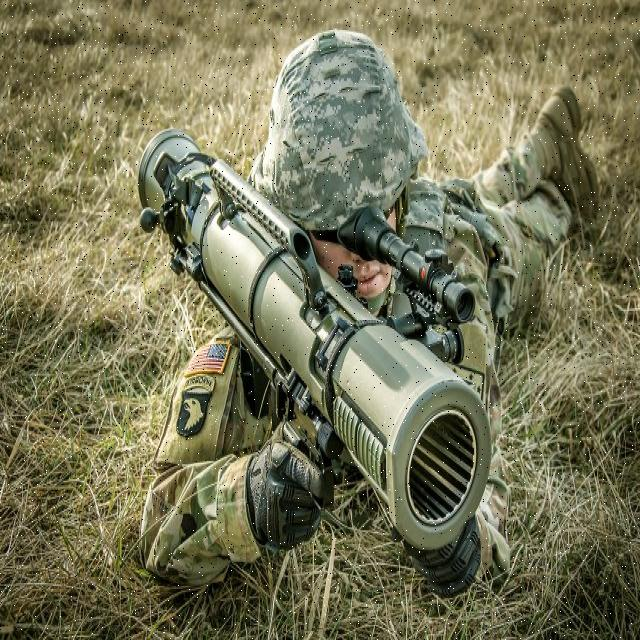bazooka: (137, 124, 497, 559)
